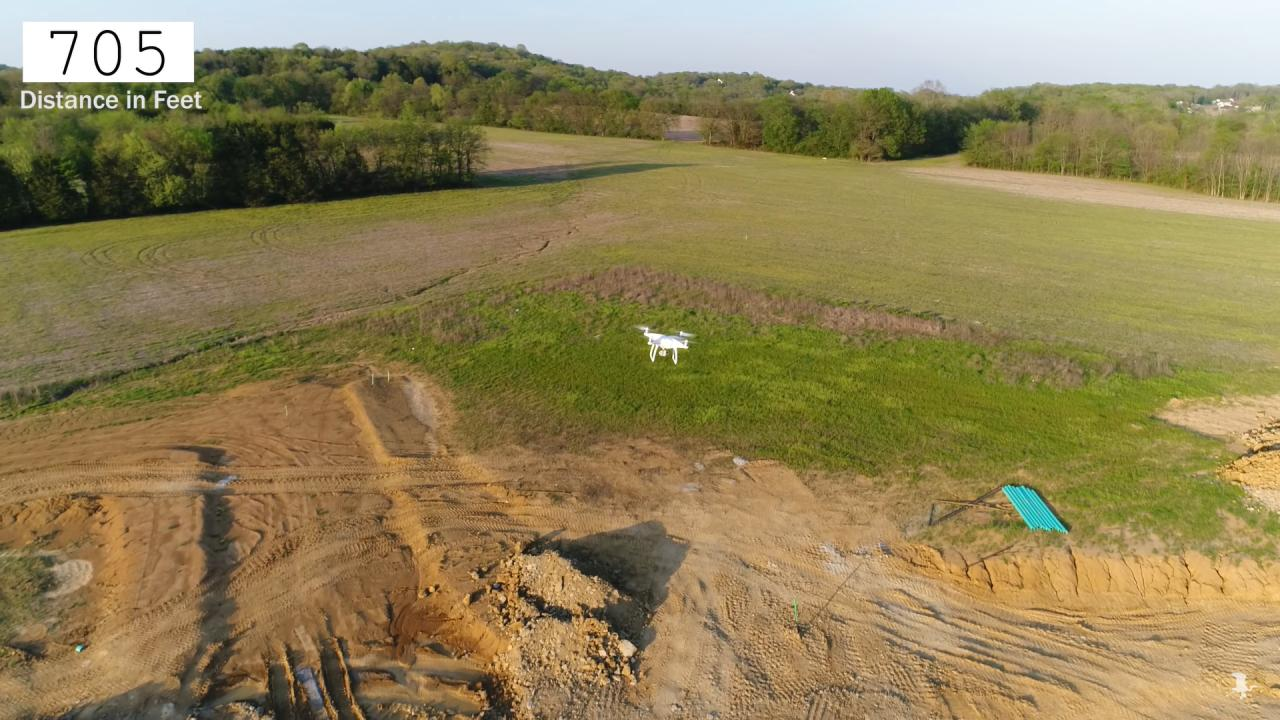Drone: (623, 318, 703, 374)
